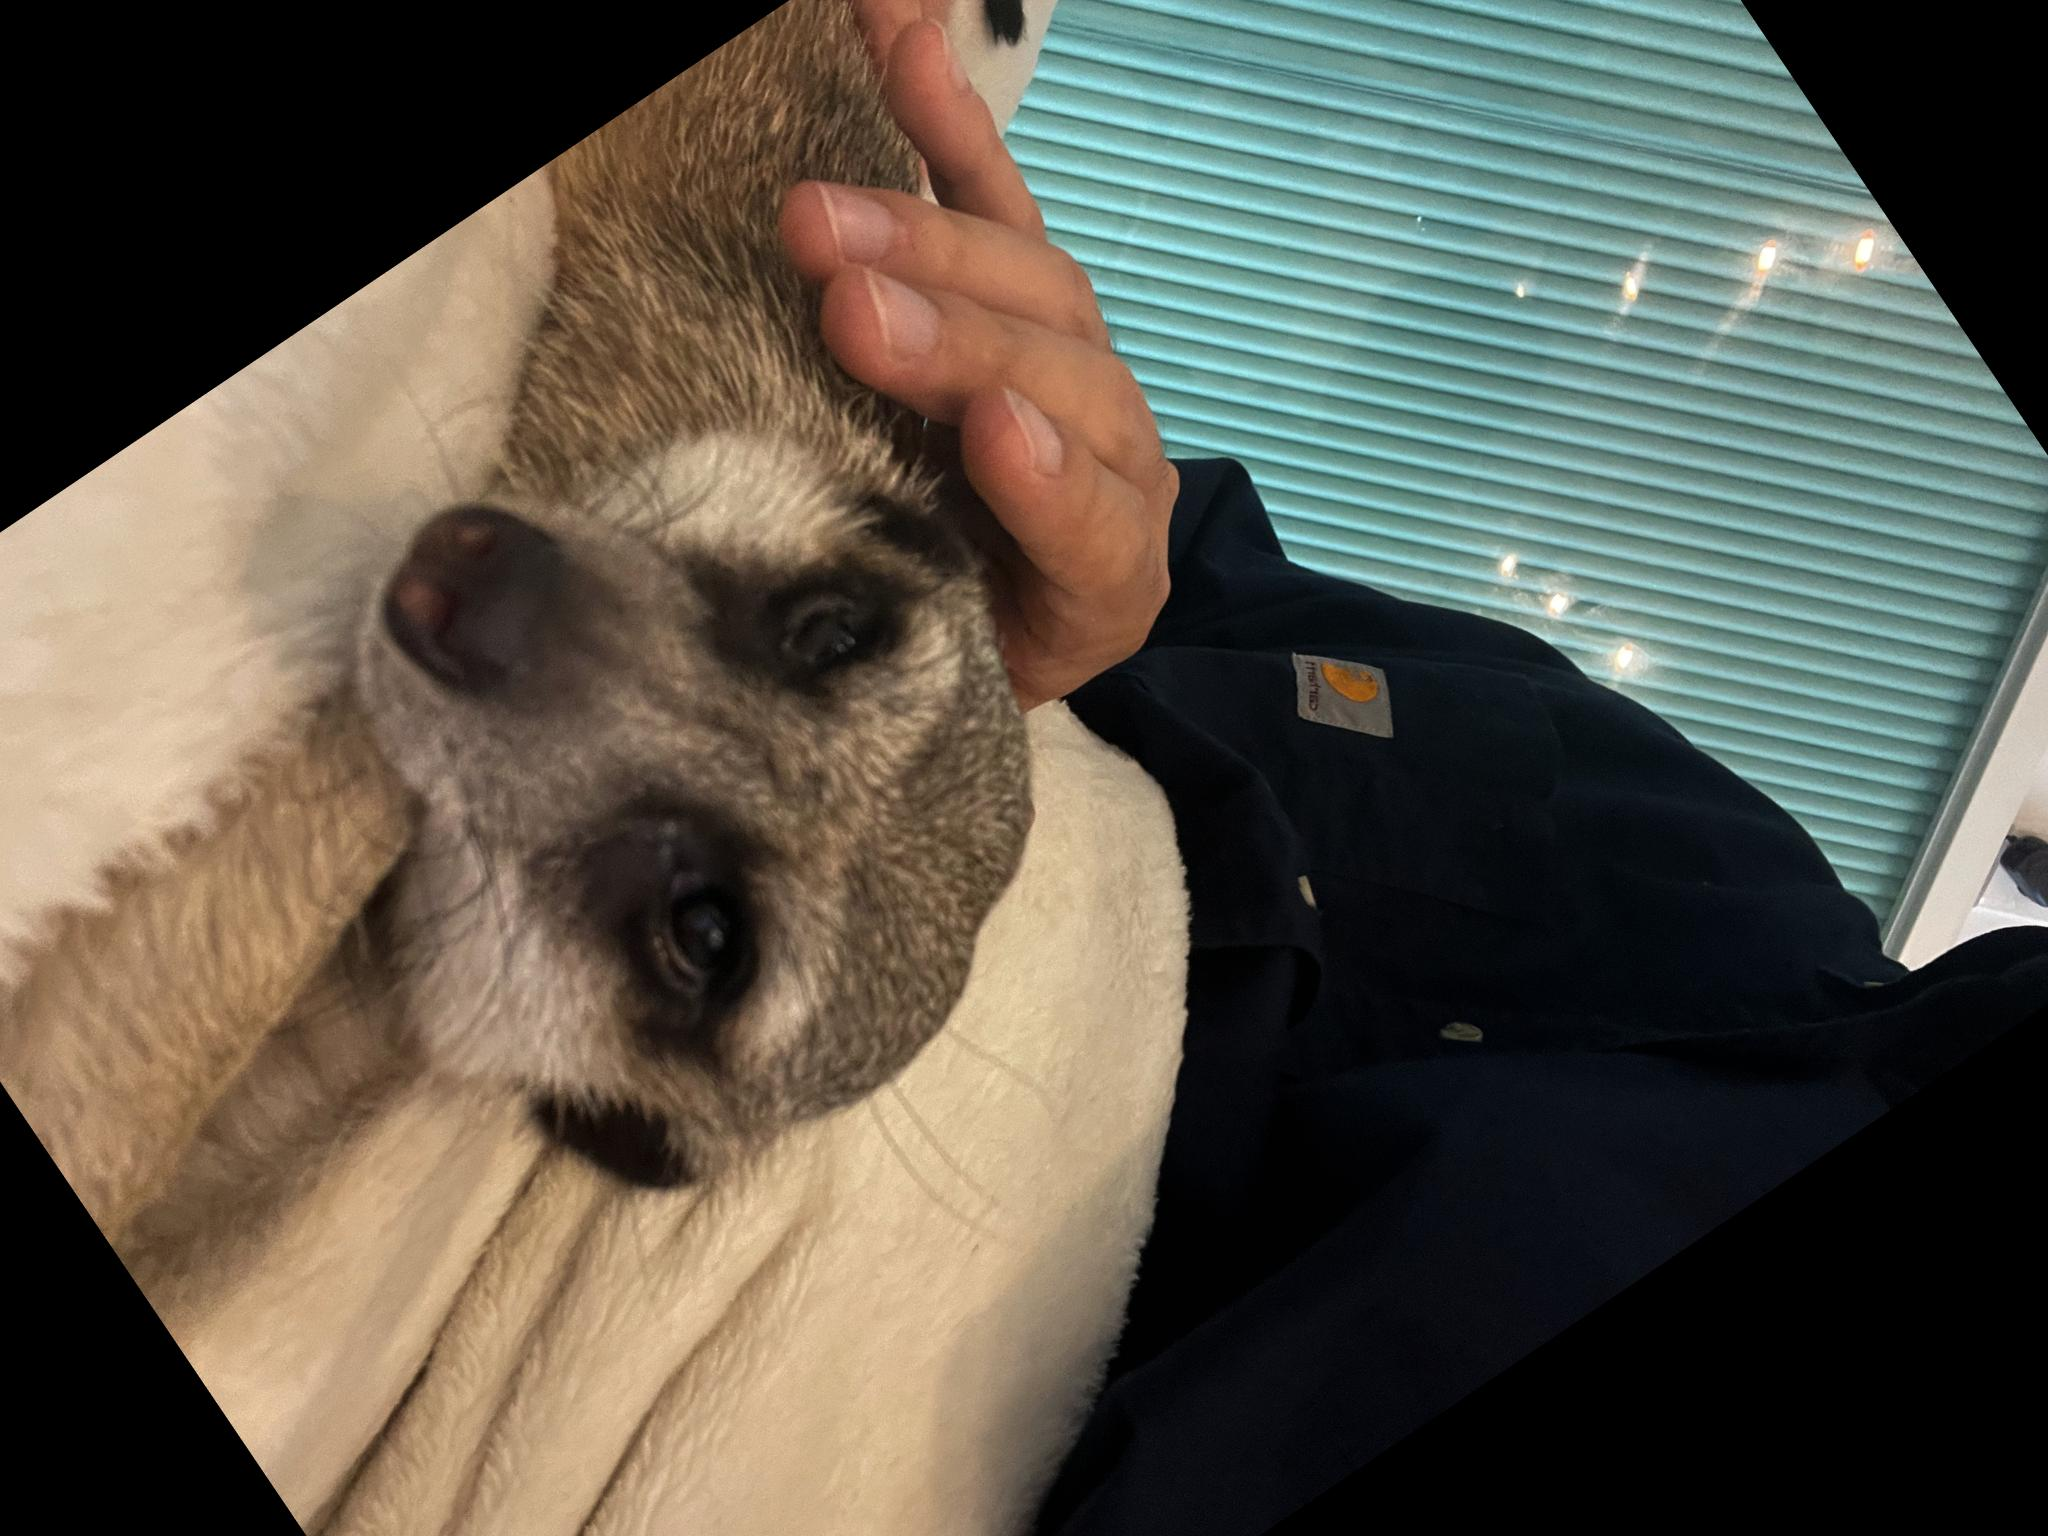meerkat: (784, 121, 2038, 1375)
